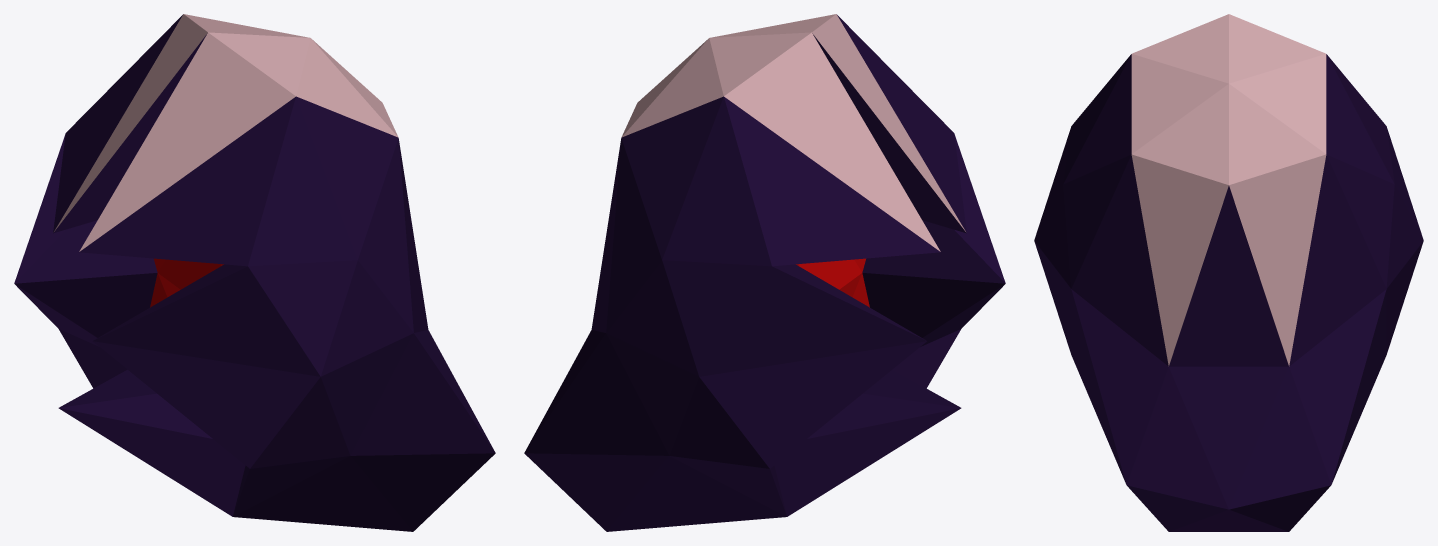
Rendered from enemy.obj.
3 renders of one model, left to right at view 1: azimuth 30°, elevation 25°; view 2: azimuth 150°, elevation 25°; view 3: azimuth 270°, elevation 25°, orthographic. The views are drawn at different scales.
Visible parts, largest first — view 1: Icosphere; view 2: Icosphere; view 3: Icosphere.
Boxes of the visible parts, box(x1,y1,x2,y2) form: Icosphere: box(14, 14, 495, 531); Icosphere: box(524, 14, 1005, 531); Icosphere: box(1034, 14, 1423, 531).
Size of the model in its own units: 2.09 by 2.53 by 2.
